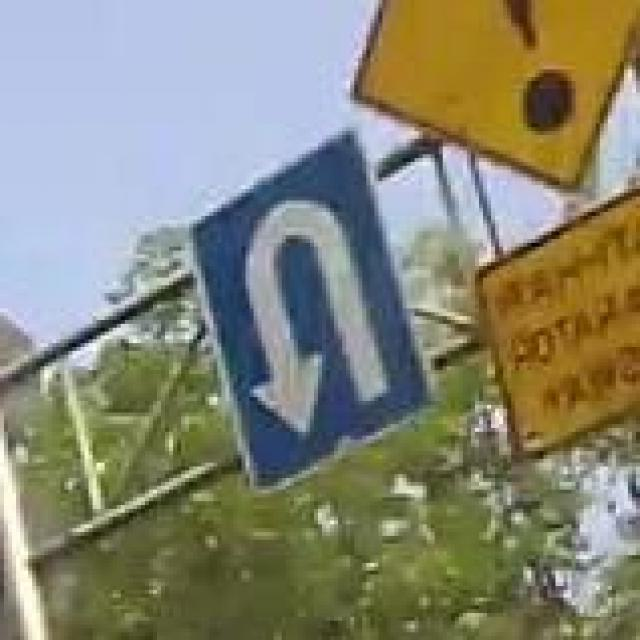U-turn: (203, 154, 413, 476)
